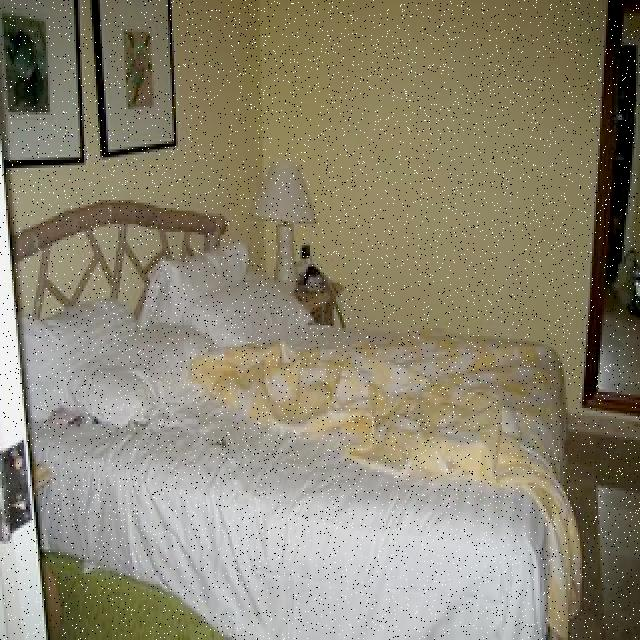bed: (35, 288, 562, 608)
